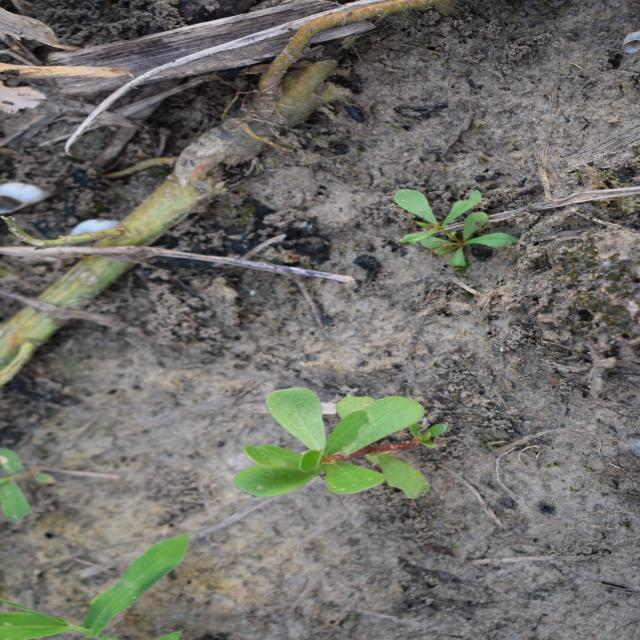Carpetweed: (391, 187, 522, 270)
Purslane: (232, 386, 450, 503)
